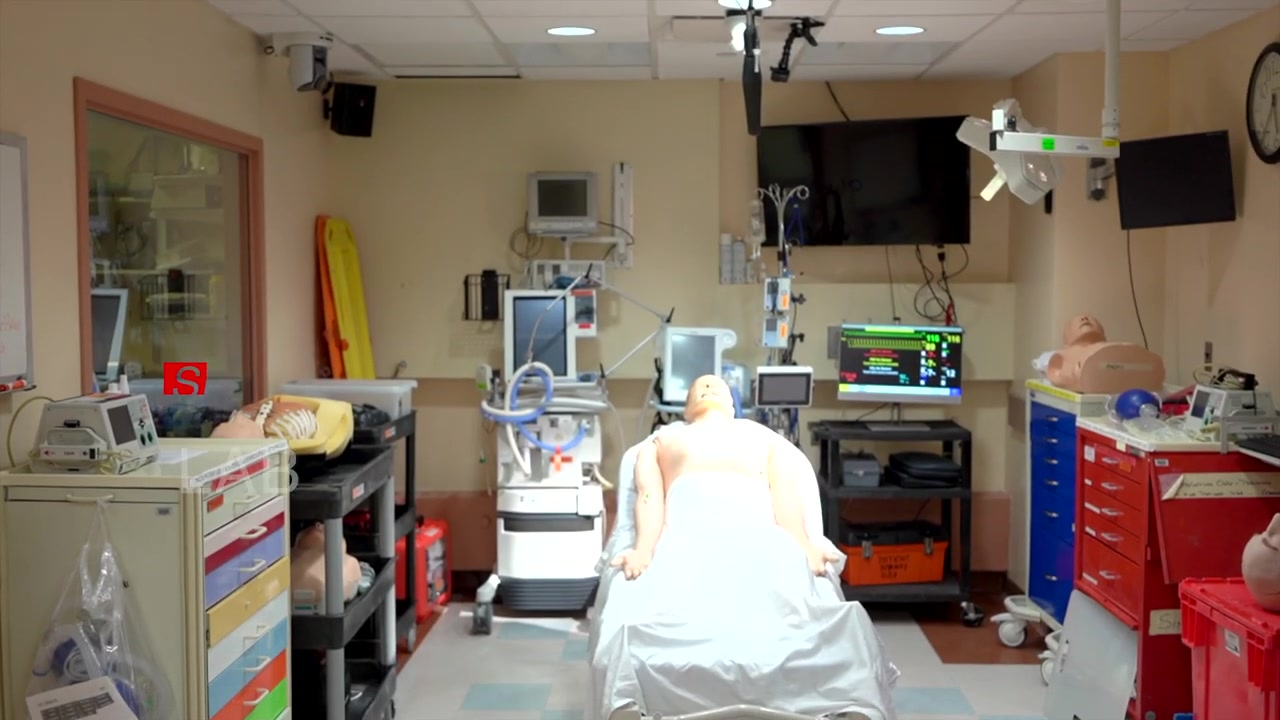TV: (754, 111, 974, 246), (1111, 128, 1238, 233)
bedside_monitor: (839, 323, 963, 403), (663, 329, 733, 407), (527, 170, 599, 234), (756, 366, 813, 408)
breathing_tube: (481, 361, 589, 478)
handle: (243, 655, 272, 673), (243, 623, 271, 640), (243, 687, 269, 705), (237, 558, 267, 573), (239, 526, 268, 540), (232, 492, 260, 505), (1098, 570, 1116, 581), (1100, 532, 1119, 542), (1101, 455, 1119, 465), (1100, 482, 1118, 491), (1101, 507, 1119, 516), (1044, 573, 1058, 582), (1044, 510, 1059, 518), (1046, 415, 1059, 422), (1046, 437, 1059, 444), (1047, 458, 1059, 465), (1047, 479, 1059, 486)
iv_pole: (754, 181, 810, 276)
medical_drawer: (1, 437, 292, 720), (1072, 410, 1280, 720), (1026, 377, 1191, 648)
operating_bed: (586, 419, 883, 720)
surgical_light: (960, 110, 1054, 209)
ventilator: (494, 289, 610, 619)
